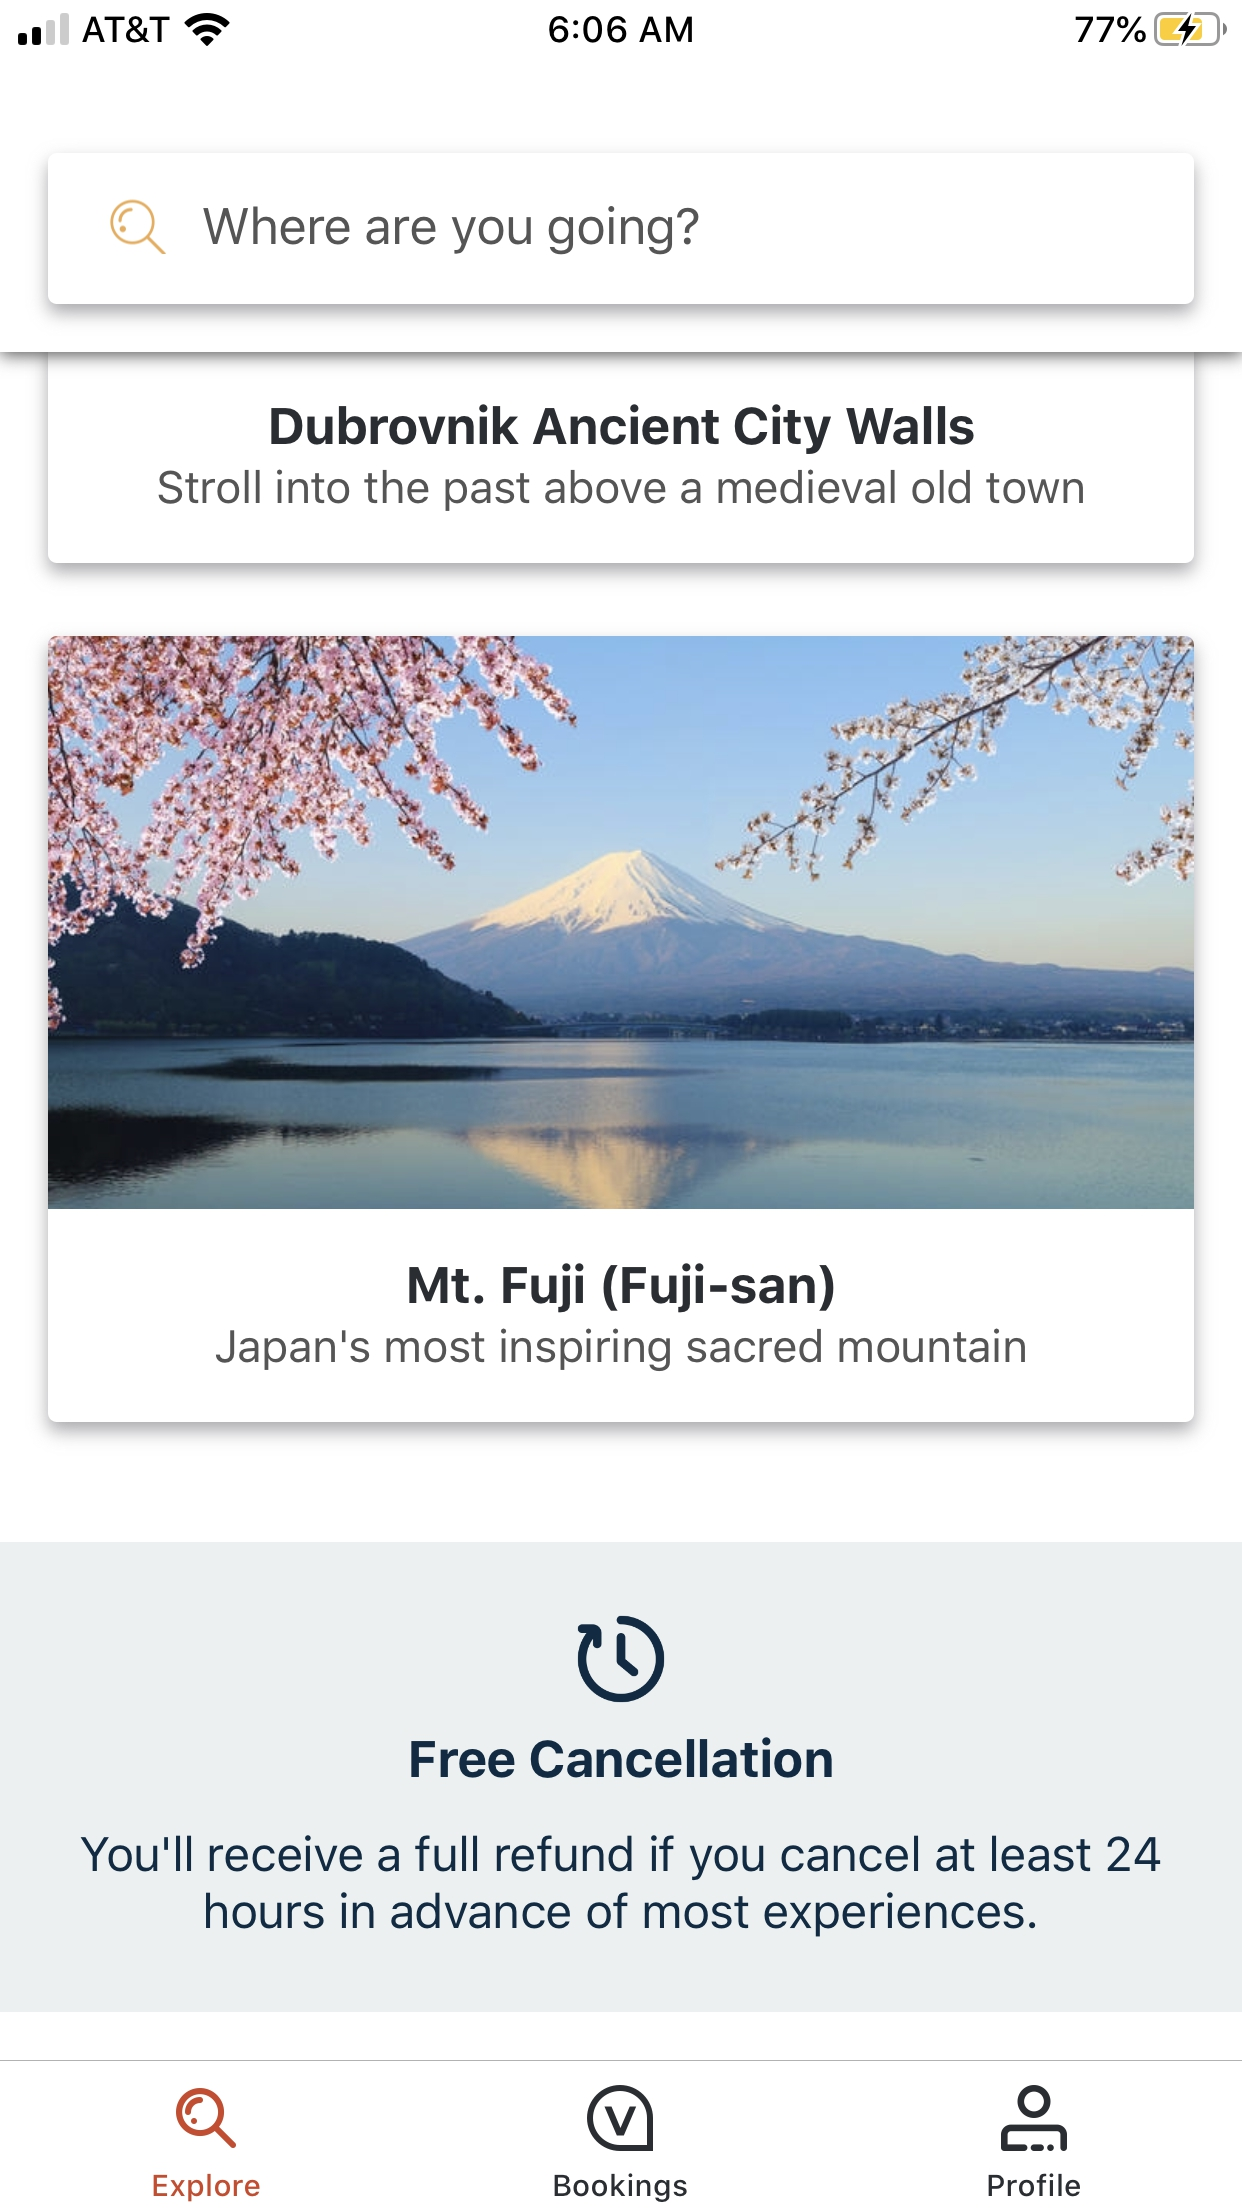EditText: (49, 155, 1193, 305)
Icon: (578, 1617, 666, 1703), (1001, 2084, 1068, 2150), (176, 2087, 237, 2147), (111, 200, 167, 255)
Image: (49, 635, 1193, 1210), (588, 2085, 654, 2150)
Text: (80, 1833, 1162, 1938), (159, 469, 1083, 513), (271, 403, 975, 456), (215, 1328, 1027, 1371), (205, 206, 701, 256), (408, 1262, 834, 1313), (411, 1736, 833, 1777), (554, 2172, 688, 2203), (153, 2172, 261, 2202), (989, 2173, 1081, 2197)
UpperTaskBar: (2, 2, 1240, 49)
